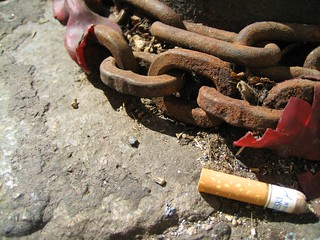cigarette: (196, 166, 309, 217)
